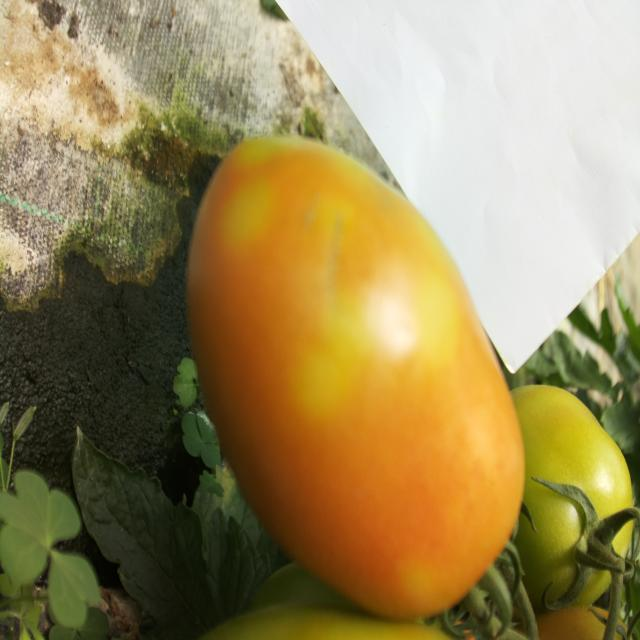sari: (176, 92, 562, 612)
